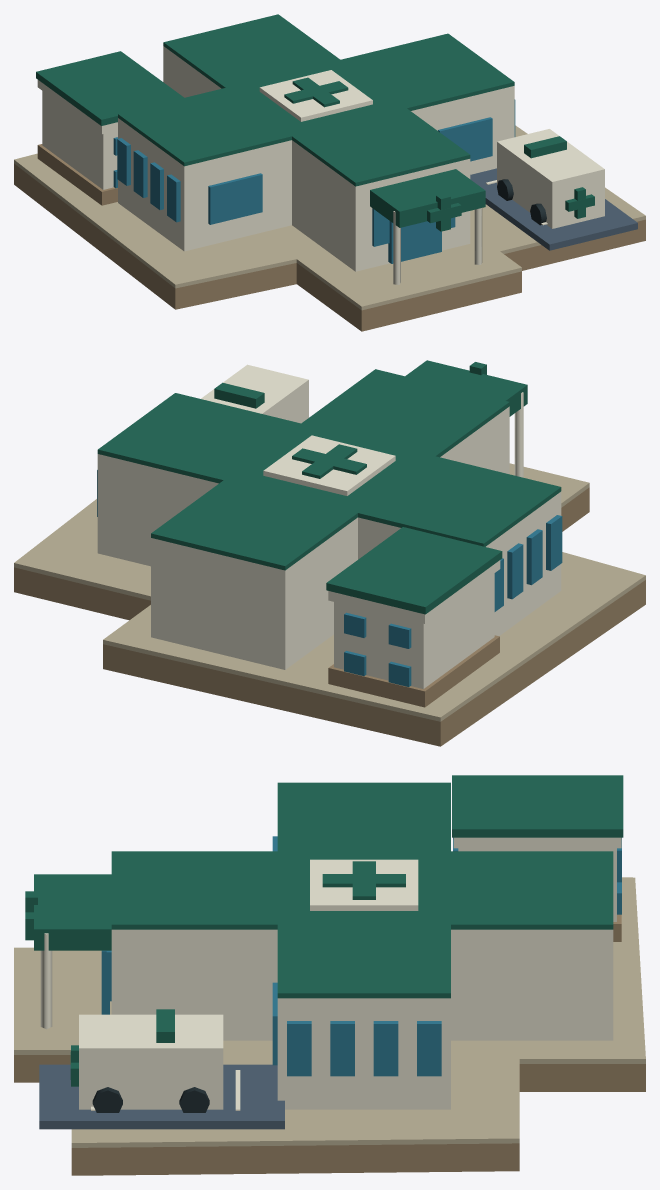
File: medical-center-lv2.glb
The picture shows the model from 3 angles, top to bottom: view 1: azimuth 30°, elevation 25°; view 2: azimuth 150°, elevation 25°; view 3: azimuth 270°, elevation 25°; orthographic projection. The views are drawn at different scales.
Visible parts, largest first — view 1: cross_clinic_jade, cross_clinic_white, foundation_paving, foundation_stoneDark, ambulance_white, inpatient_wing_roof_jade, inpatient_wing_white, clinic_windows_glass, entry_canopy_jade, ambulance_lane_slate, side_clinic_windows_glass, roof_mark_white (+8 smaller); view 2: cross_clinic_jade, cross_clinic_white, foundation_paving, foundation_stoneDark, inpatient_wing_white, inpatient_wing_roof_jade, roof_mark_white, inpatient_wing_stoneDark, ambulance_white, side_clinic_windows_glass, entry_canopy_jade, inpatient_wing_windows_glass (+3 smaller); view 3: cross_clinic_jade, cross_clinic_white, foundation_paving, foundation_stoneDark, ambulance_white, inpatient_wing_roof_jade, ambulance_lane_slate, entry_canopy_jade, side_clinic_windows_glass, roof_mark_white, inpatient_wing_white, roof_mark_jade (+4 smaller).
Part boxes in pixels (left/top/right/bottom): cross_clinic_jade: left=118, top=14, right=514, bottom=186; cross_clinic_white: left=118, top=46, right=514, bottom=271; foundation_paving: left=14, top=125, right=645, bottom=310; foundation_stoneDark: left=14, top=163, right=645, bottom=331; ambulance_white: left=497, top=129, right=604, bottom=228; inpatient_wing_roof_jade: left=36, top=51, right=184, bottom=125; inpatient_wing_white: left=37, top=80, right=117, bottom=189; clinic_windows_glass: left=208, top=117, right=492, bottom=246; entry_canopy_jade: left=370, top=169, right=485, bottom=227; ambulance_lane_slate: left=470, top=168, right=637, bottom=250; side_clinic_windows_glass: left=117, top=99, right=515, bottom=222; roof_mark_white: left=259, top=70, right=372, bottom=121; cross_clinic_jade: left=97, top=369, right=561, bottom=570; cross_clinic_white: left=97, top=406, right=561, bottom=669; foundation_paving: left=14, top=463, right=645, bottom=721; foundation_stoneDark: left=14, top=487, right=645, bottom=746; inpatient_wing_white: left=328, top=560, right=500, bottom=688; inpatient_wing_roof_jade: left=326, top=527, right=502, bottom=614; roof_mark_white: left=263, top=435, right=395, bottom=495; inpatient_wing_stoneDark: left=328, top=635, right=499, bottom=707; ambulance_white: left=201, top=364, right=308, bottom=423; side_clinic_windows_glass: left=97, top=470, right=562, bottom=611; entry_canopy_jade: left=405, top=360, right=527, bottom=416; inpatient_wing_windows_glass: left=344, top=612, right=411, bottom=686; cross_clinic_jade: left=111, top=782, right=613, bottom=998; cross_clinic_white: left=111, top=929, right=613, bottom=1109; foundation_paving: left=14, top=877, right=645, bottom=1147; foundation_stoneDark: left=14, top=1055, right=645, bottom=1175; ambulance_white: left=79, top=1014, right=223, bottom=1109; inpatient_wing_roof_jade: left=452, top=775, right=623, bottom=837; ambulance_lane_slate: left=39, top=1064, right=284, bottom=1129; entry_canopy_jade: left=34, top=874, right=111, bottom=950; side_clinic_windows_glass: left=287, top=1021, right=441, bottom=1076; roof_mark_white: left=310, top=859, right=418, bottom=910; inpatient_wing_white: left=453, top=837, right=621, bottom=921; roof_mark_jade: left=322, top=861, right=405, bottom=899.
Size of the model in its own units: 1 by 0.2729 by 0.9887.
